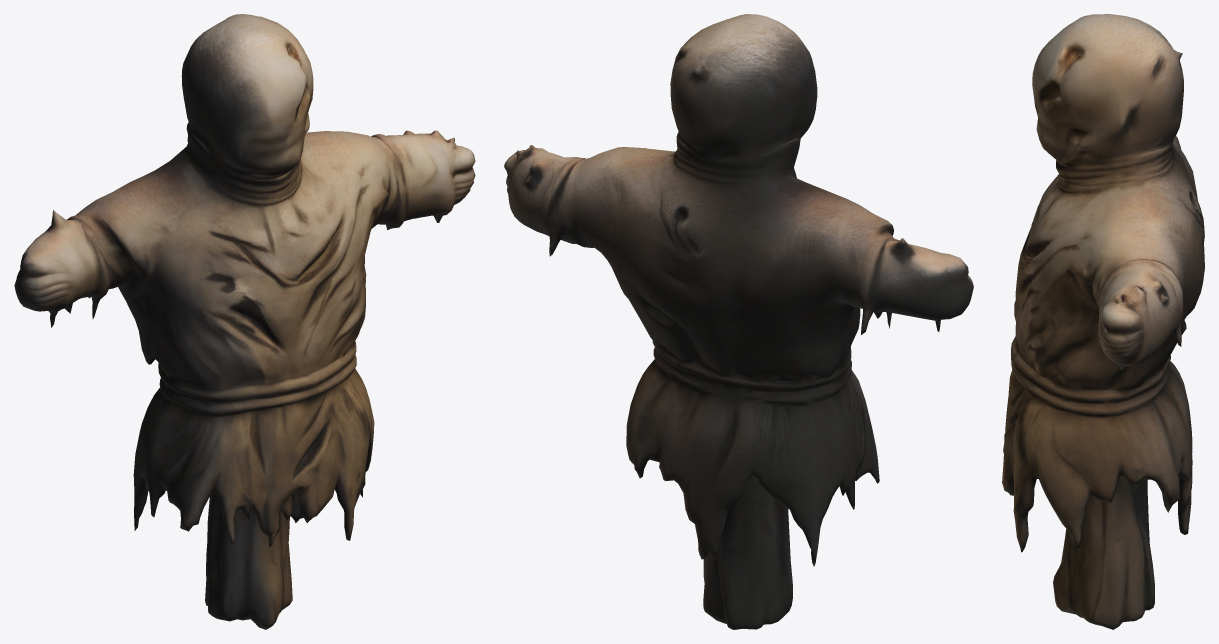
Rendered from training_dummy_decayed.glb.
The picture shows the model from 3 angles, left to right: view 1: azimuth 30°, elevation 25°; view 2: azimuth 150°, elevation 25°; view 3: azimuth 270°, elevation 25°; orthographic projection.
Bounding box in the file's own units: 1.63 × 2 × 0.62.
Materials: 1 (1 with a texture image).
